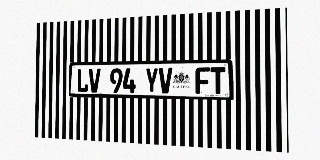4: (123, 68, 136, 93)
9: (110, 68, 123, 93)
F: (195, 67, 210, 94)
L: (77, 69, 88, 92)
T: (210, 67, 225, 94)
V: (159, 68, 172, 93), (89, 68, 101, 93)
Y: (145, 68, 158, 93)
